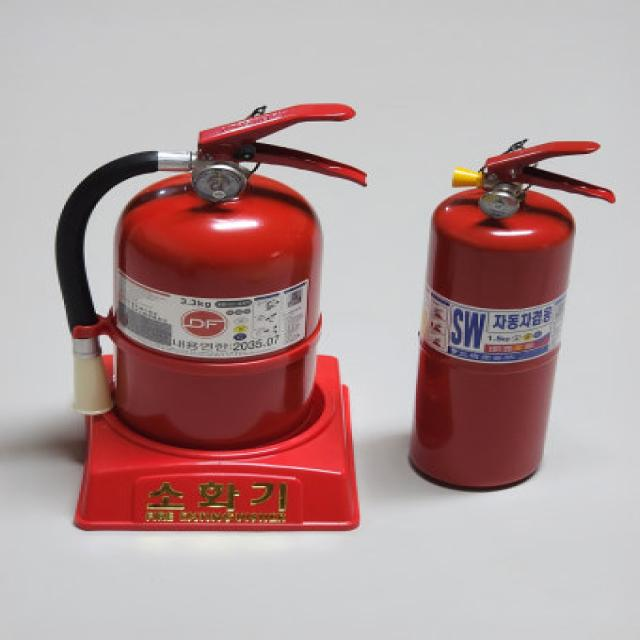pressure gauge: (192, 162, 246, 202), (479, 183, 523, 218)
